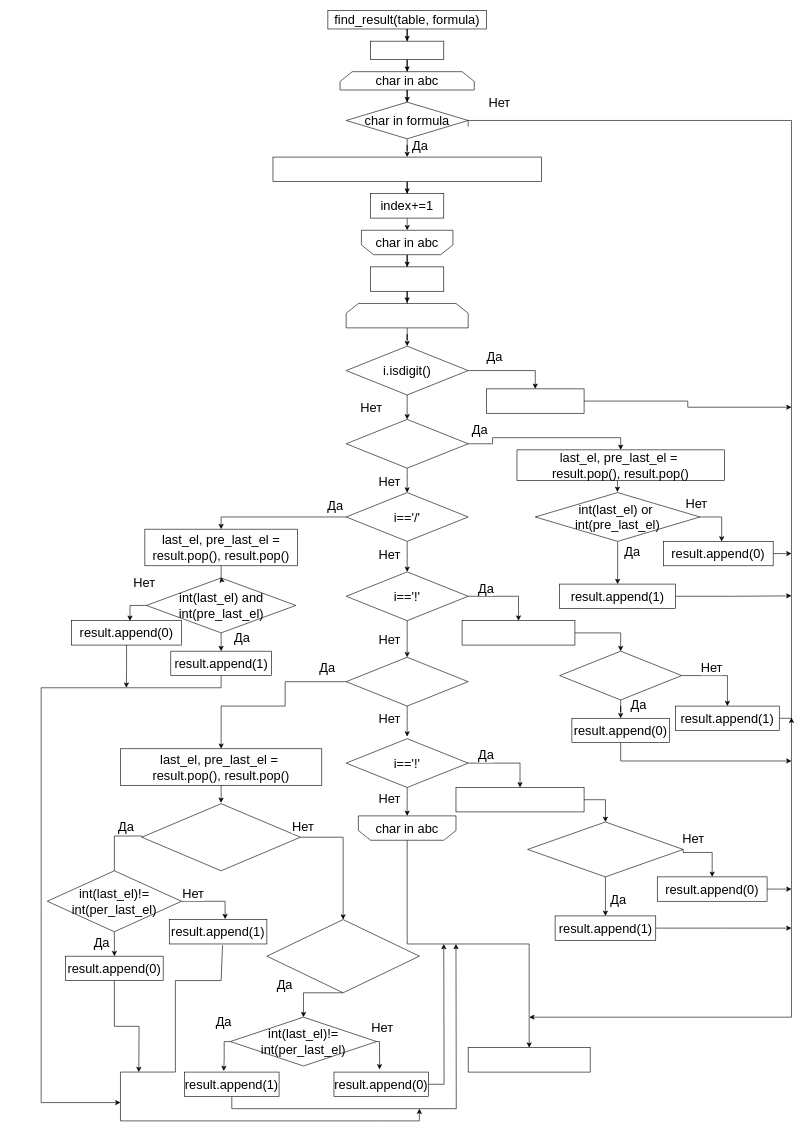
Image size: 807x1136. Some labels were removed from this diagram. The shapes that lost their labels are listed below. From the top down, each one's centre as x and y in pixels, then its label:
At point (407, 50): "index=0".
At point (406, 168): "formula=formula.replace(char, str(table[index]))".
At point (407, 278): "result=[]".
At point (407, 315): "i in formula".
At point (535, 400): "result.append(i)".
At point (407, 443): "i=='\\'".
At point (518, 632): "last_el=result.pop()".
At point (407, 681): "i=='>'".
At point (620, 675): "int(last_el)".
At point (519, 799): "last_el = result.pop()".
At point (220, 837): "not int(last_el) or int(pre_last_el)".
At point (605, 849): "int(last_el)== int(pre_last_el)".
At point (342, 956): "int(last_el) or not int(pre_last_el)".
At point (529, 1059): "return result.pop()".
